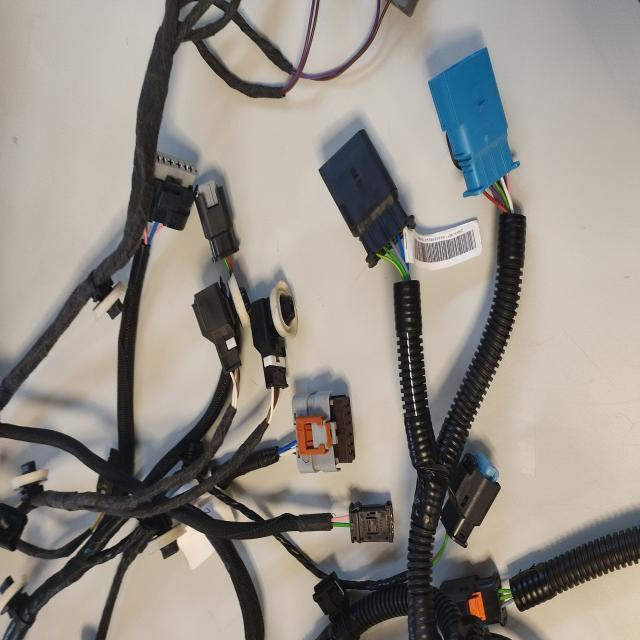cable: (0, 0, 331, 639), (313, 212, 525, 639), (192, 0, 393, 96), (512, 527, 639, 601)
clip: (267, 280, 296, 339), (143, 523, 186, 558), (90, 278, 124, 318), (228, 272, 250, 327), (13, 461, 47, 488), (0, 576, 22, 614)
connector: (428, 47, 518, 196), (319, 129, 413, 266), (441, 452, 500, 547), (293, 392, 354, 471), (149, 153, 195, 230), (440, 573, 506, 624), (195, 181, 238, 259), (349, 501, 393, 542)
